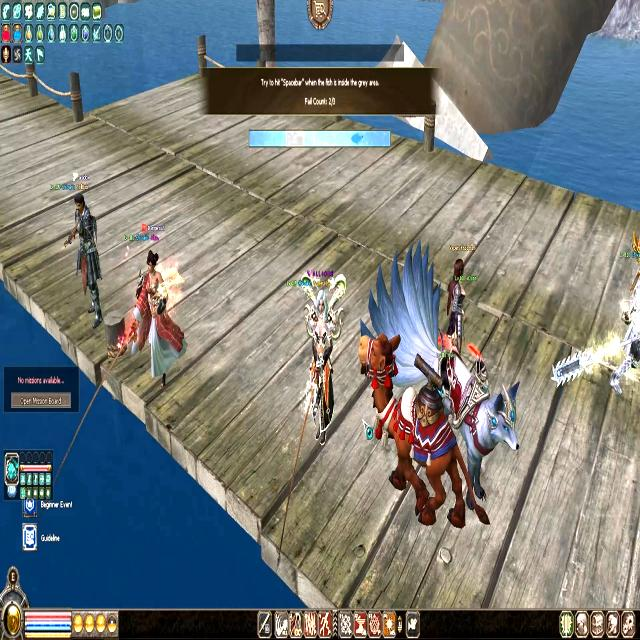fishes: (351, 131, 362, 145)
